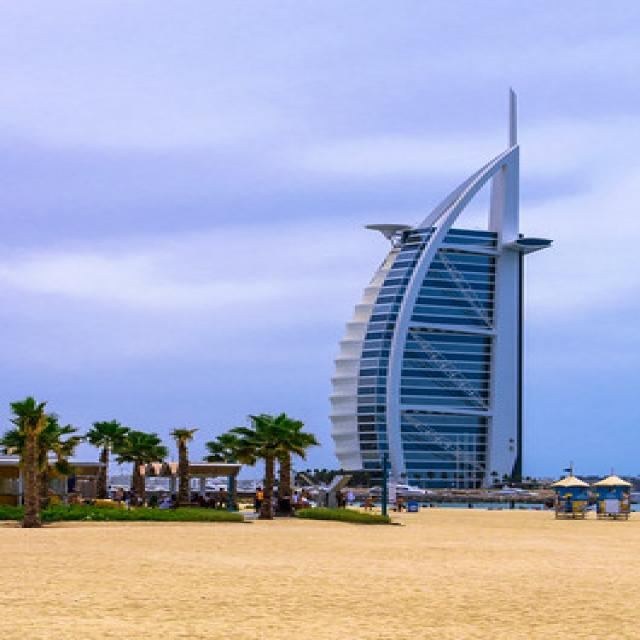Normal_building: (320, 140, 537, 495)
